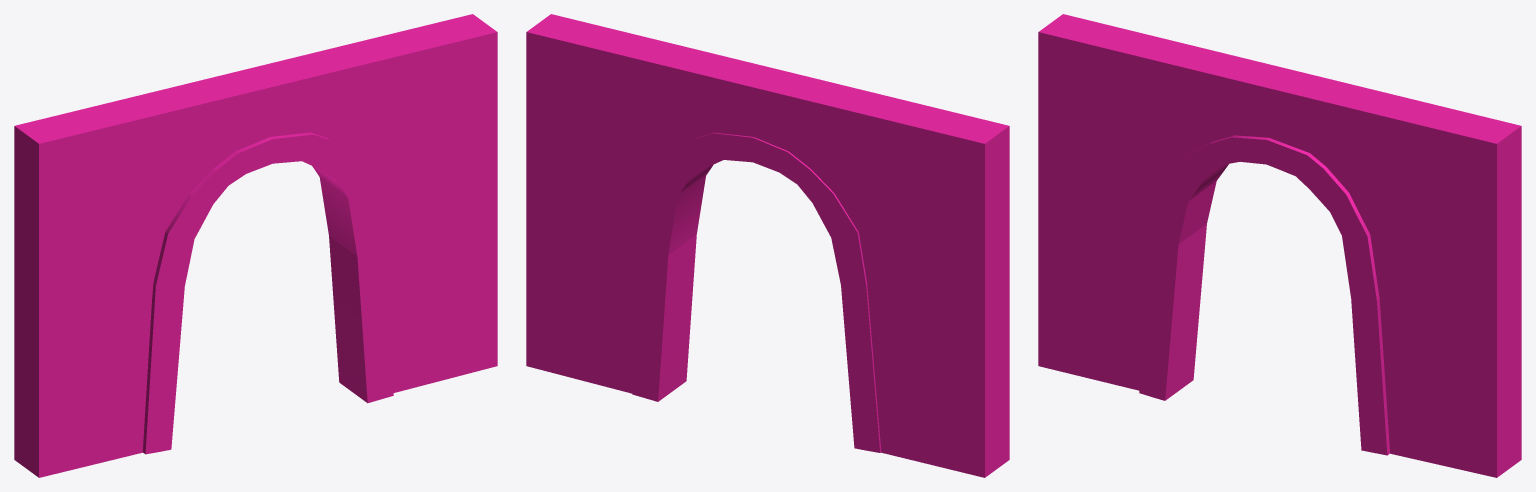
Rendered from 중간벽.fbx.
3 renders of one model, left to right at view 1: azimuth 30°, elevation 25°; view 2: azimuth 150°, elevation 25°; view 3: azimuth 330°, elevation 25°, orthographic.
Visible parts, largest first — view 1: wall01_low; view 2: wall01_low; view 3: wall01_low.
Part boxes in pixels (x1=…): wall01_low: x1=14, y1=14, x2=497, y2=477; wall01_low: x1=526, y1=14, x2=1009, y2=477; wall01_low: x1=1038, y1=14, x2=1521, y2=477.
Size of the model in its own units: 484 by 340 by 52.04.
